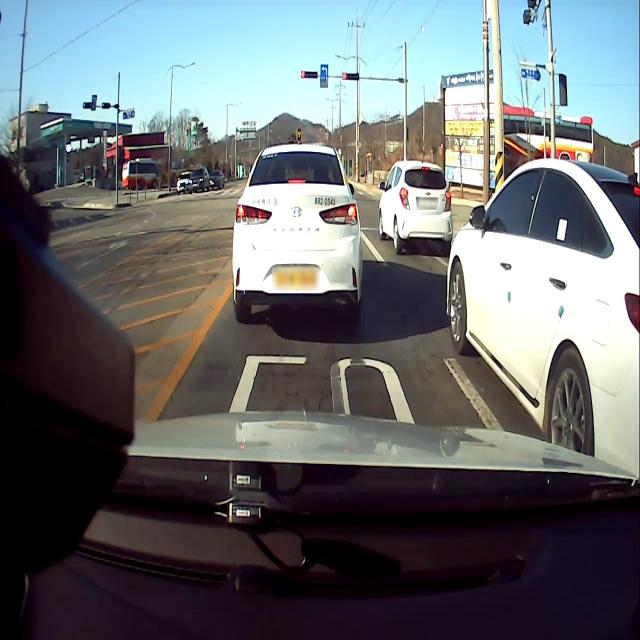Red Light: (342, 71, 348, 81), (300, 70, 306, 78)
